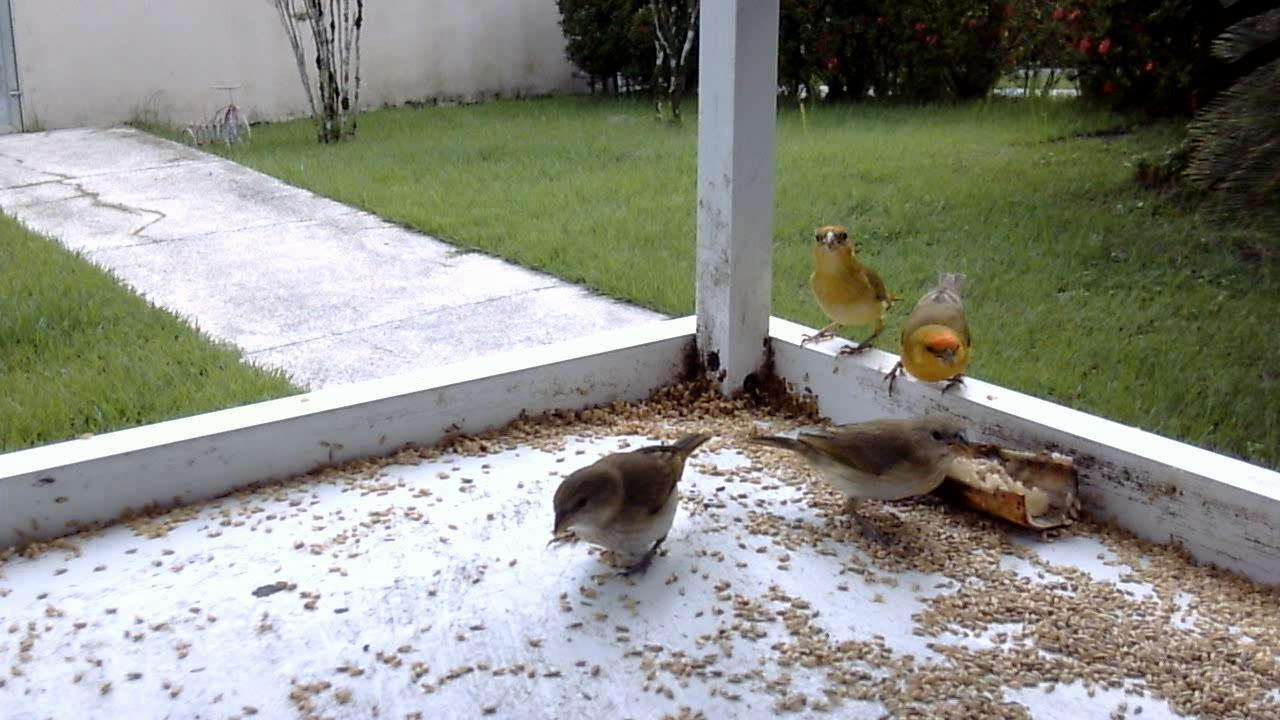canario_do_amazonas: (744, 411, 977, 548), (542, 431, 717, 589), (794, 223, 898, 373), (879, 269, 977, 420)
